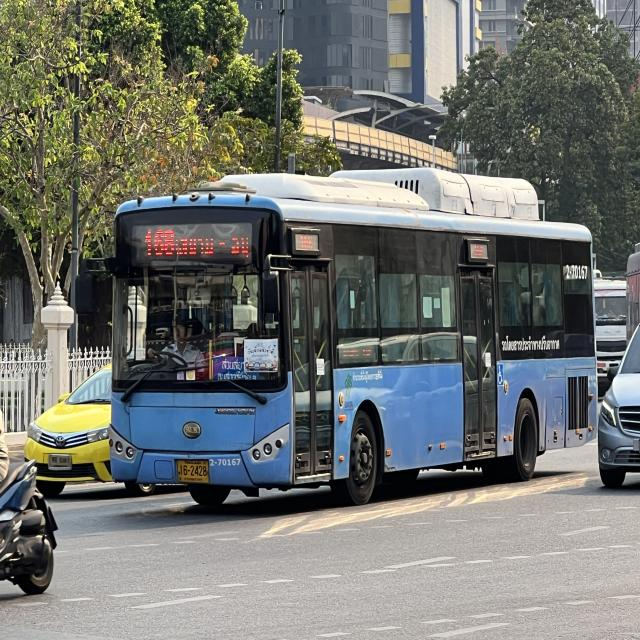BMTA-bus: (84, 168, 597, 510)
Bus Line Number: (141, 225, 177, 258)
Bus Side Number: (208, 456, 243, 469)
Destination Sign: (212, 355, 259, 381)
